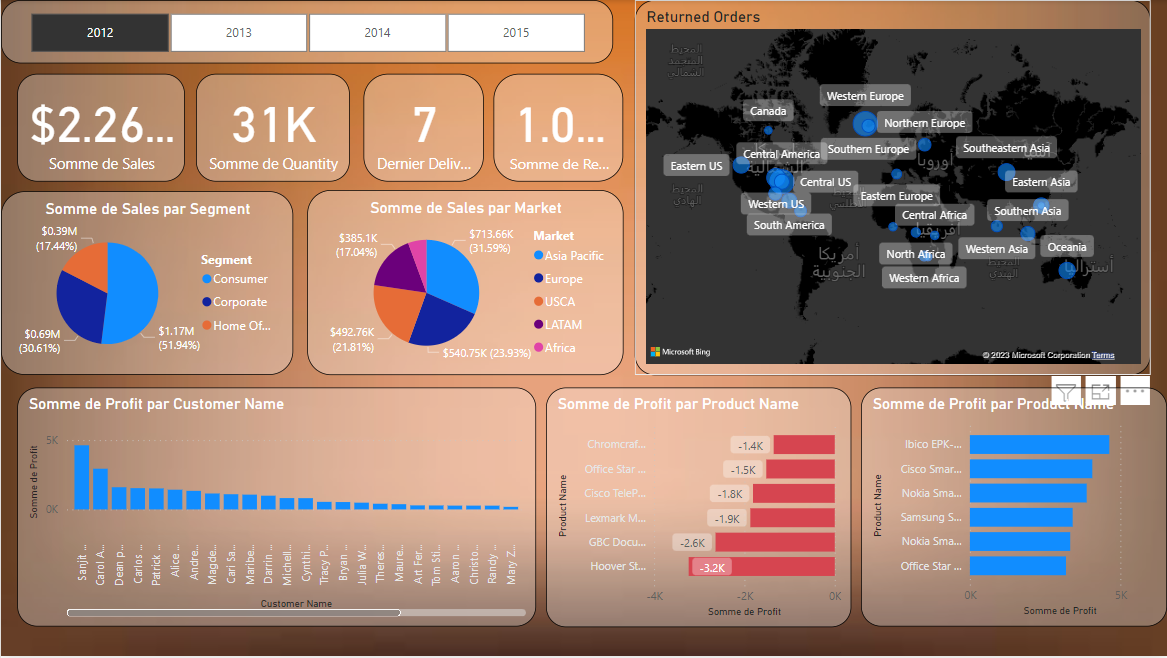

What the dashboard file says about the page in this screenshot:
{"tool":"powerbi","page":{"name":"Page 1","canvas":[1280,720],"ordinal":0},"visuals":[{"type":"card","fields":{"Values":["Sum(Orders.Sales)"]},"box":[17.8,81,183.9,118],"z":0},{"type":"card","fields":{"Values":["Sum(Orders.Quantity)"]},"box":[214.1,81,168.8,118],"z":1000},{"type":"card","fields":{"Values":["Max(Orders.Delivery Date)"]},"box":[397.9,81,131.7,118],"z":2000},{"type":"slicer","fields":{"Values":["Orders.Year"]},"box":[0,0,672.4,70],"z":2001},{"type":"card","fields":{"Values":["Sum(Returns.Returned Order)"]},"box":[540.7,81,142.7,118],"z":2002},{"type":"map","title":"Returned Orders","fields":{"Category":["Orders.Region"],"Size":["Sum(Orders.Quantity)"]},"box":[695.7,0,566.7,411.7],"z":2003},{"type":"barChart","fields":{"Y":["Sum(Orders.Profit)"],"Category":["Orders.Product Name"]},"box":[944.1,425.4,336.2,262.1],"z":2004},{"type":"barChart","fields":{"Y":["Sum(Orders.Profit)"],"Category":["Orders.Product Name"]},"box":[598.3,425.4,334.8,263.5],"z":2005},{"type":"pieChart","fields":{"Category":["Orders.Segment"],"Y":["Sum(Orders.Sales)"]},"box":[0,209.9,321.1,201.7],"z":2006},{"type":"pieChart","fields":{"Category":["Orders.Market"],"Y":["Sum(Orders.Sales)"]},"box":[336.2,208.6,347.2,203.1],"z":2007},{"type":"columnChart","fields":{"Y":["Sum(Orders.Profit)"],"Category":["Orders.Customer Name"]},"box":[17.8,425.4,569.5,262.1],"z":2008}]}

Visuals, with their boxes in screenshot pixels (x1, y1, x2, y2), scaled from the page's 1280x720 canvas onto the 1167x658 screenshot:
card - Sum(Orders.Sales): <bbox>16, 74, 184, 182</bbox>
card - Sum(Orders.Quantity): <bbox>195, 74, 349, 182</bbox>
card - Max(Orders.Delivery Date): <bbox>363, 74, 483, 182</bbox>
slicer - Orders.Year: <bbox>0, 0, 613, 64</bbox>
card - Sum(Returns.Returned Order): <bbox>493, 74, 623, 182</bbox>
"Returned Orders" map: <bbox>634, 0, 1151, 376</bbox>
barChart - Sum(Orders.Profit) x Orders.Product Name: <bbox>861, 389, 1166, 628</bbox>
barChart - Sum(Orders.Profit) x Orders.Product Name: <bbox>545, 389, 851, 630</bbox>
pieChart - Orders.Segment x Sum(Orders.Sales): <bbox>0, 192, 293, 376</bbox>
pieChart - Orders.Market x Sum(Orders.Sales): <bbox>307, 191, 623, 376</bbox>
columnChart - Sum(Orders.Profit) x Orders.Customer Name: <bbox>16, 389, 535, 628</bbox>
